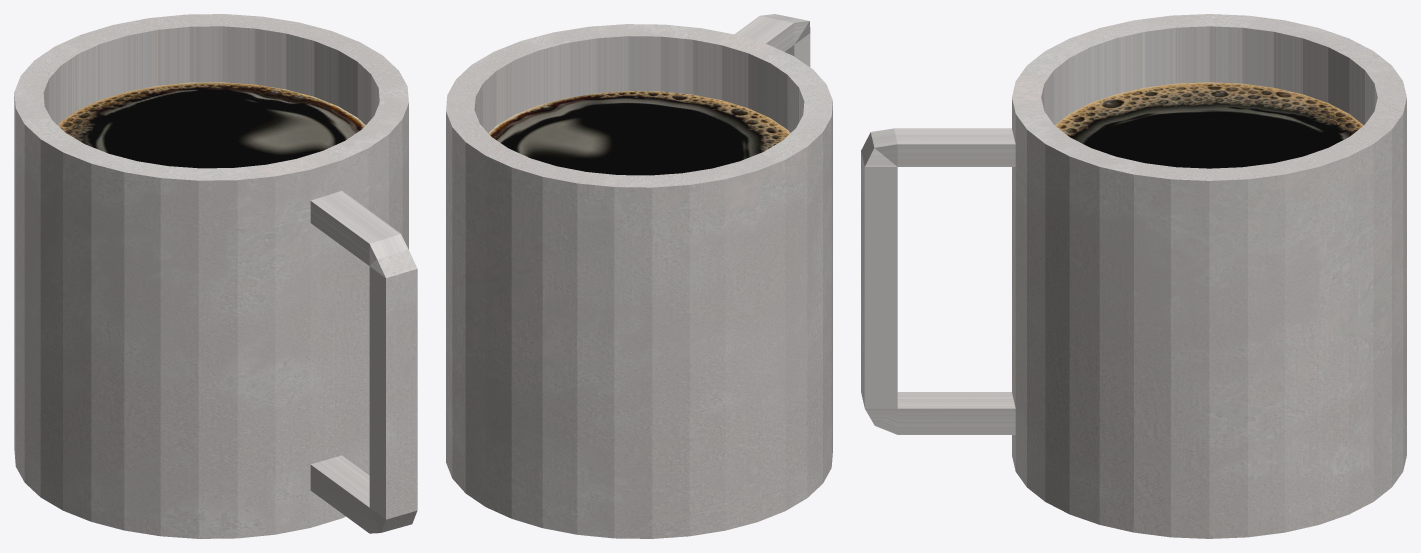
Rendered from tazaKF.fbx.
3 views of the same model, side by side, from view 1: azimuth 30°, elevation 25°; view 2: azimuth 150°, elevation 25°; view 3: azimuth 270°, elevation 25° (orthographic).
Parts seen in each view (by area): view 1: Cylinder.096; view 2: Cylinder.096; view 3: Cylinder.096.
Part boxes in pixels (left/top/right/bottom): Cylinder.096: left=14, top=14, right=417, bottom=538; Cylinder.096: left=446, top=14, right=832, bottom=538; Cylinder.096: left=861, top=14, right=1406, bottom=538.
Size of the model in its own units: 200 by 200 by 276.
2 materials, 2 textured.
